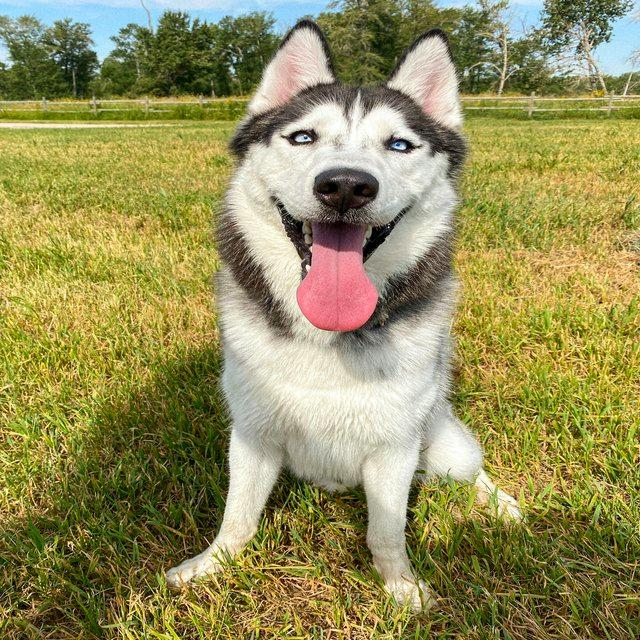husky: (164, 16, 526, 614)
